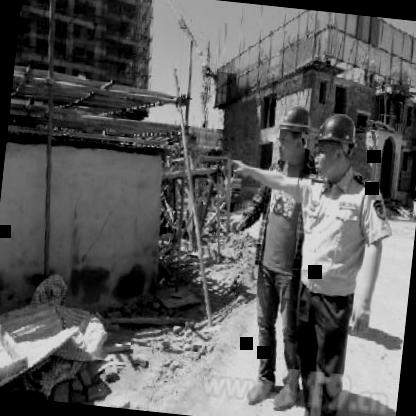helmet: (311, 108, 362, 184), (268, 102, 314, 168)
